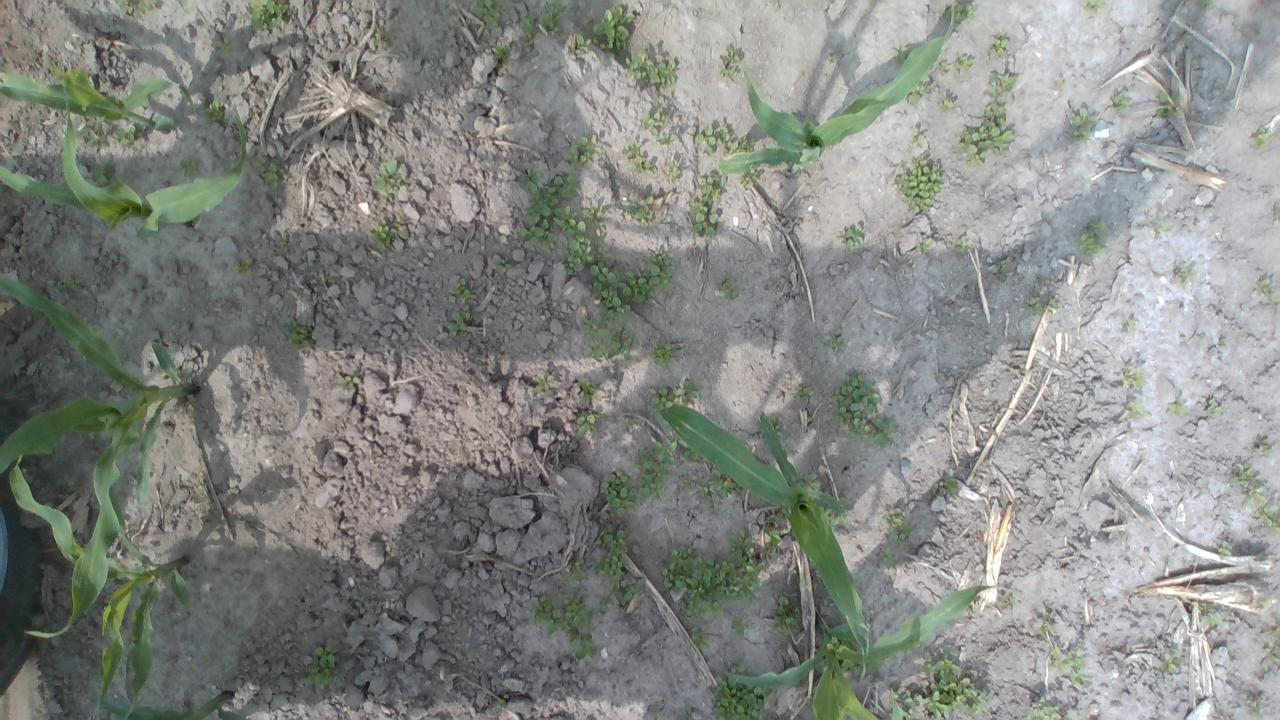Maize: (0, 269, 195, 641), (656, 402, 874, 676), (6, 451, 196, 720), (718, 6, 956, 175), (717, 583, 990, 720), (0, 91, 250, 240), (0, 65, 191, 134), (100, 690, 248, 720)
Weeds: (659, 528, 767, 624), (518, 166, 594, 274), (588, 248, 675, 314), (913, 648, 988, 720), (830, 370, 896, 448), (960, 101, 1016, 166), (684, 464, 742, 512), (710, 680, 779, 720), (896, 157, 944, 213), (528, 596, 598, 634), (634, 439, 676, 500), (692, 117, 756, 156), (584, 314, 635, 362), (592, 5, 636, 54), (592, 530, 628, 587), (624, 51, 678, 88), (600, 470, 638, 522), (689, 174, 720, 236), (305, 642, 342, 690), (649, 376, 704, 408), (1232, 462, 1268, 508), (642, 97, 676, 144), (598, 580, 646, 611), (620, 138, 656, 176), (253, 153, 287, 192), (564, 135, 604, 168), (278, 318, 316, 352), (245, 0, 288, 29), (772, 596, 803, 636), (372, 160, 401, 202), (1068, 108, 1100, 144), (881, 507, 912, 544), (622, 192, 654, 226), (766, 513, 791, 555), (1049, 645, 1085, 673), (568, 632, 600, 663), (1078, 218, 1104, 256), (367, 222, 398, 253), (472, 0, 506, 27), (540, 0, 567, 34), (1191, 598, 1224, 625), (987, 70, 1018, 98), (582, 201, 606, 237), (717, 47, 741, 82), (1026, 697, 1061, 720), (558, 560, 586, 586), (720, 274, 746, 302), (88, 115, 110, 148), (650, 338, 674, 368), (1255, 278, 1280, 306), (936, 468, 960, 497), (892, 687, 913, 720), (452, 277, 476, 305), (119, 0, 157, 17), (841, 223, 864, 251), (939, 55, 976, 72), (1157, 94, 1183, 118), (676, 439, 704, 461), (944, 4, 976, 23), (827, 636, 859, 654), (824, 327, 847, 352), (822, 507, 850, 527), (1110, 90, 1133, 114), (177, 157, 200, 180), (578, 378, 600, 402), (1122, 363, 1144, 387), (448, 310, 472, 332), (213, 34, 234, 59), (231, 256, 254, 278), (520, 16, 536, 47), (889, 46, 914, 65), (849, 662, 880, 677), (739, 166, 759, 189), (1263, 506, 1280, 533), (909, 84, 930, 105), (572, 33, 592, 55), (115, 126, 137, 146), (1245, 698, 1265, 720), (1160, 653, 1180, 674), (534, 371, 553, 393), (991, 36, 1010, 58), (208, 98, 226, 121), (1253, 128, 1273, 148), (1176, 265, 1195, 286), (577, 414, 599, 432), (1152, 222, 1174, 240), (492, 44, 514, 62), (66, 471, 84, 492), (769, 415, 786, 437), (735, 617, 753, 637), (1126, 398, 1144, 418), (494, 256, 514, 274), (1262, 648, 1280, 668), (916, 238, 936, 255), (664, 160, 682, 178), (1166, 400, 1186, 416), (1030, 294, 1044, 316), (881, 550, 898, 568), (796, 385, 816, 400), (1032, 622, 1055, 635), (692, 628, 706, 649), (801, 472, 818, 489), (1000, 590, 1017, 607), (81, 430, 97, 448), (1084, 0, 1110, 11), (342, 375, 362, 389), (63, 276, 80, 290), (912, 127, 926, 144), (826, 46, 840, 62), (1070, 672, 1088, 684), (1271, 614, 1280, 638), (1218, 544, 1232, 559), (736, 662, 754, 673), (373, 26, 387, 40), (1258, 441, 1271, 456), (1207, 398, 1217, 415), (1124, 320, 1138, 332), (198, 654, 210, 666), (942, 99, 953, 112), (959, 239, 968, 254), (176, 0, 190, 8), (1050, 302, 1062, 310), (1199, 0, 1212, 7), (497, 700, 506, 710), (998, 260, 1008, 268), (663, 0, 673, 8)
